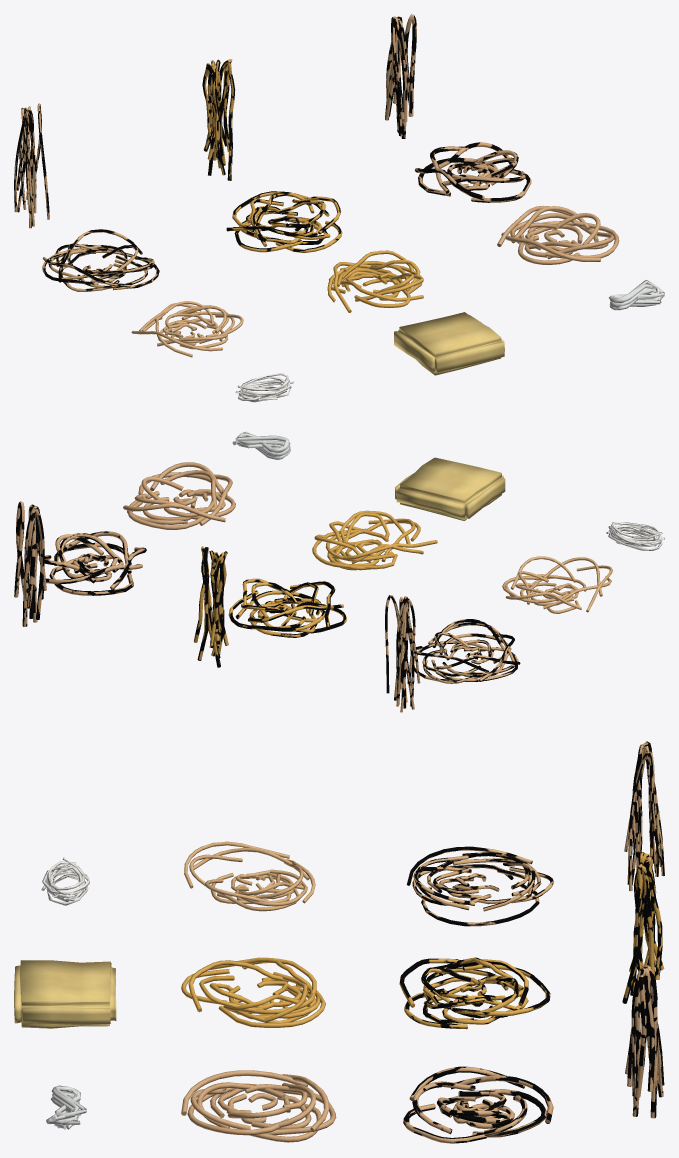
The model's file is Phase3_Noodles_P1.glb.
The picture shows the model from 3 angles, top to bottom: view 1: azimuth 30°, elevation 25°; view 2: azimuth 150°, elevation 25°; view 3: azimuth 270°, elevation 25°; orthographic projection. The views are drawn at different scales.
Parts seen in each view (by area): view 1: InstantNoodle_Raw, KonjacNoodle_Bed_A, InstantNoodle_Bed_B, KonjacNoodle_Bed_B, GlassNoodle_Bed_B, InstantNoodle_Bed_A, GlassNoodle_Bed_A, InstantNoodle_Lift, KonjacNoodle_Lift, GlassNoodle_Lift, GlassNoodle_Raw, KonjacNoodle_Raw; view 2: InstantNoodle_Raw, KonjacNoodle_Bed_A, InstantNoodle_Bed_B, InstantNoodle_Bed_A, KonjacNoodle_Bed_B, GlassNoodle_Bed_B, GlassNoodle_Bed_A, KonjacNoodle_Lift, InstantNoodle_Lift, GlassNoodle_Lift, GlassNoodle_Raw, KonjacNoodle_Raw; view 3: KonjacNoodle_Bed_A, InstantNoodle_Raw, InstantNoodle_Bed_B, KonjacNoodle_Bed_B, GlassNoodle_Bed_B, InstantNoodle_Bed_A, GlassNoodle_Bed_A, KonjacNoodle_Lift, InstantNoodle_Lift, GlassNoodle_Lift, GlassNoodle_Raw, KonjacNoodle_Raw.
Boxes of the visible parts, bbox=[...] form: InstantNoodle_Raw: bbox=[394, 312, 504, 375]; KonjacNoodle_Bed_A: bbox=[497, 205, 619, 264]; InstantNoodle_Bed_B: bbox=[226, 191, 342, 252]; KonjacNoodle_Bed_B: bbox=[414, 142, 531, 202]; GlassNoodle_Bed_B: bbox=[42, 229, 159, 291]; InstantNoodle_Bed_A: bbox=[327, 250, 423, 312]; GlassNoodle_Bed_A: bbox=[131, 301, 243, 357]; InstantNoodle_Lift: bbox=[202, 59, 235, 180]; KonjacNoodle_Lift: bbox=[385, 14, 416, 138]; GlassNoodle_Lift: bbox=[14, 103, 49, 228]; GlassNoodle_Raw: bbox=[235, 373, 293, 402]; KonjacNoodle_Raw: bbox=[608, 280, 664, 310]; InstantNoodle_Raw: bbox=[395, 457, 505, 520]; KonjacNoodle_Bed_A: bbox=[123, 462, 235, 529]; InstantNoodle_Bed_B: bbox=[228, 578, 346, 637]; InstantNoodle_Bed_A: bbox=[312, 510, 437, 570]; KonjacNoodle_Bed_B: bbox=[38, 531, 146, 595]; GlassNoodle_Bed_B: bbox=[413, 619, 520, 683]; GlassNoodle_Bed_A: bbox=[502, 556, 612, 613]; KonjacNoodle_Lift: bbox=[14, 501, 46, 626]; InstantNoodle_Lift: bbox=[194, 546, 228, 667]; GlassNoodle_Lift: bbox=[385, 595, 420, 712]; GlassNoodle_Raw: bbox=[606, 522, 664, 550]; KonjacNoodle_Raw: bbox=[232, 431, 290, 459]; KonjacNoodle_Bed_A: bbox=[181, 1070, 336, 1142]; InstantNoodle_Raw: bbox=[14, 960, 116, 1028]; InstantNoodle_Bed_B: bbox=[399, 957, 550, 1029]; KonjacNoodle_Bed_B: bbox=[403, 1066, 553, 1143]; GlassNoodle_Bed_B: bbox=[406, 846, 553, 926]; InstantNoodle_Bed_A: bbox=[181, 957, 325, 1027]; GlassNoodle_Bed_A: bbox=[184, 841, 315, 911]; KonjacNoodle_Lift: bbox=[625, 965, 664, 1118]; InstantNoodle_Lift: bbox=[622, 852, 664, 1003]; GlassNoodle_Lift: bbox=[624, 741, 664, 891]; GlassNoodle_Raw: bbox=[41, 857, 89, 905]; KonjacNoodle_Raw: bbox=[46, 1085, 86, 1129].
Size of the model in its own units: 0.556 by 0.1387 by 0.54.
Materials: 6 (6 with a texture image).
